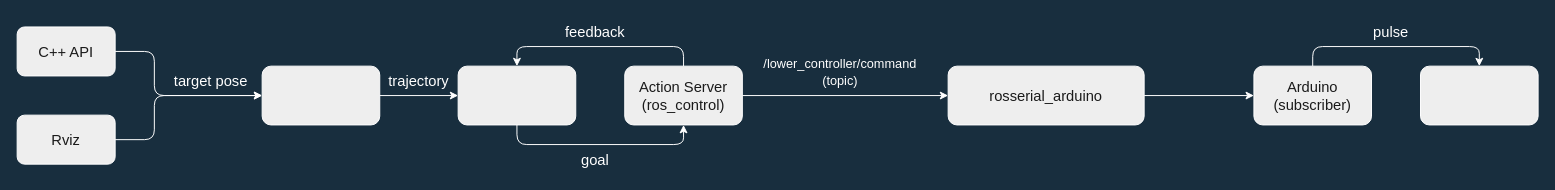
Image size: 1555x190. Some labels were removed from this diagram. Each missing label, with the centre of its shape:
"Action Client (move_group)" goes at [516,95].
"Moveit" goes at [320,95].
"Stepper Motor" goes at [1479,95].
